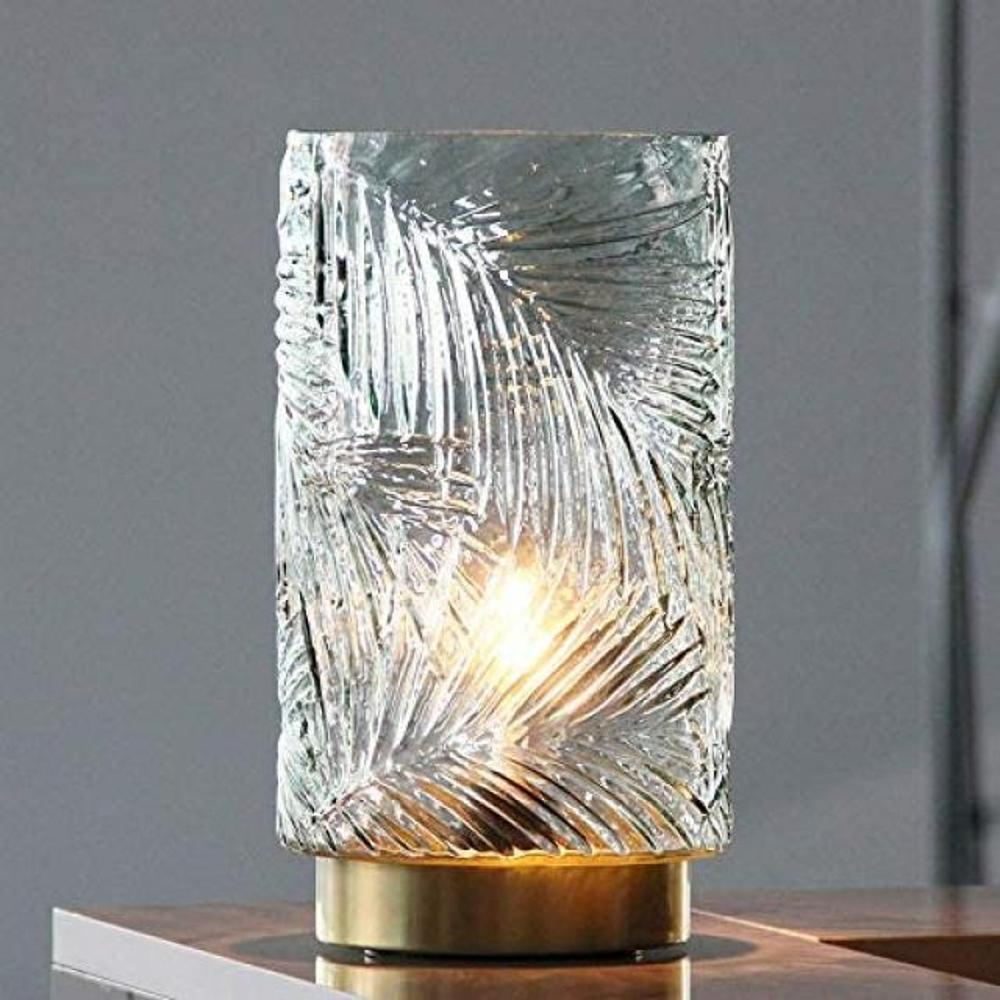shelf: (224, 90, 841, 963)
